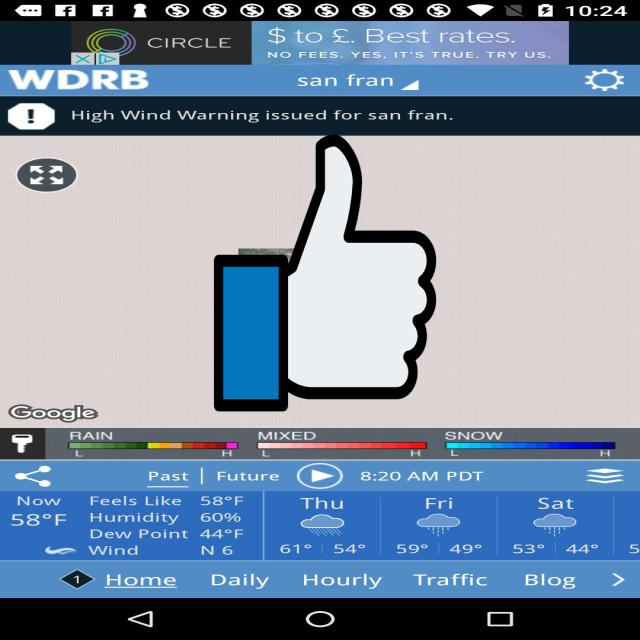privacy zuckering: (214, 128, 436, 418)
